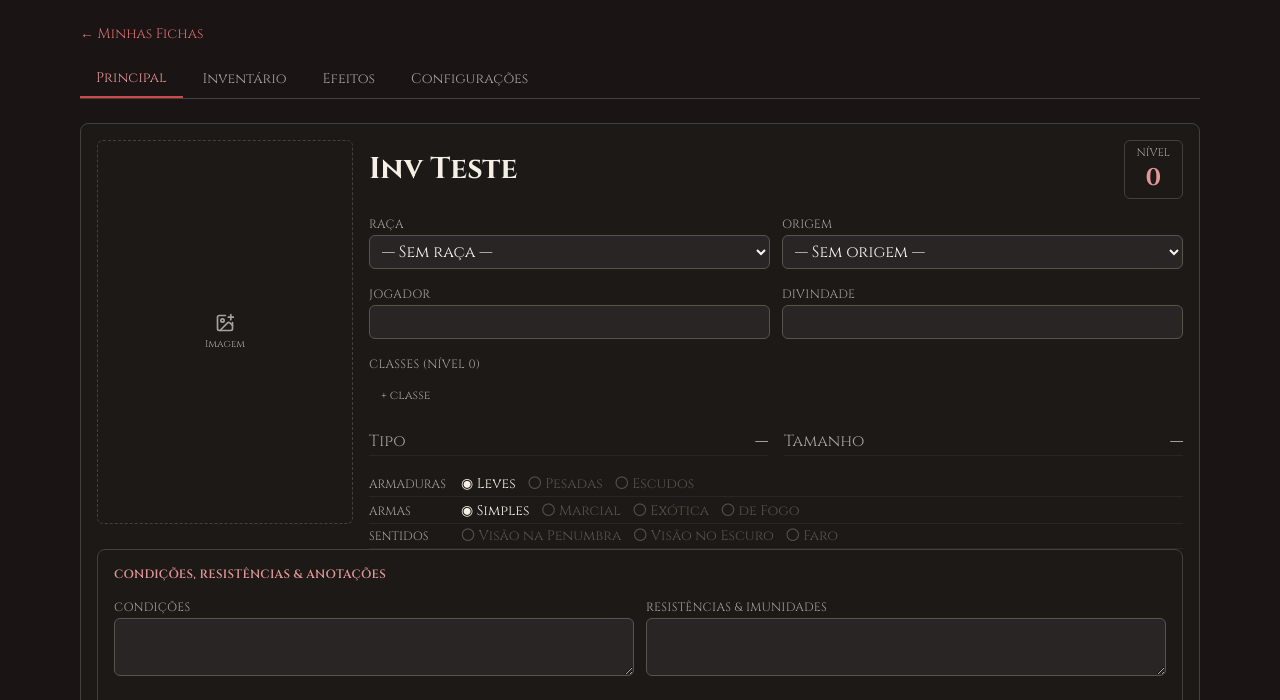
Test: SheetEditor (página única) › abre a aba Inventário e permite adicionar item
Click the tab "Inventário": (245, 79) [187,60,303,98]
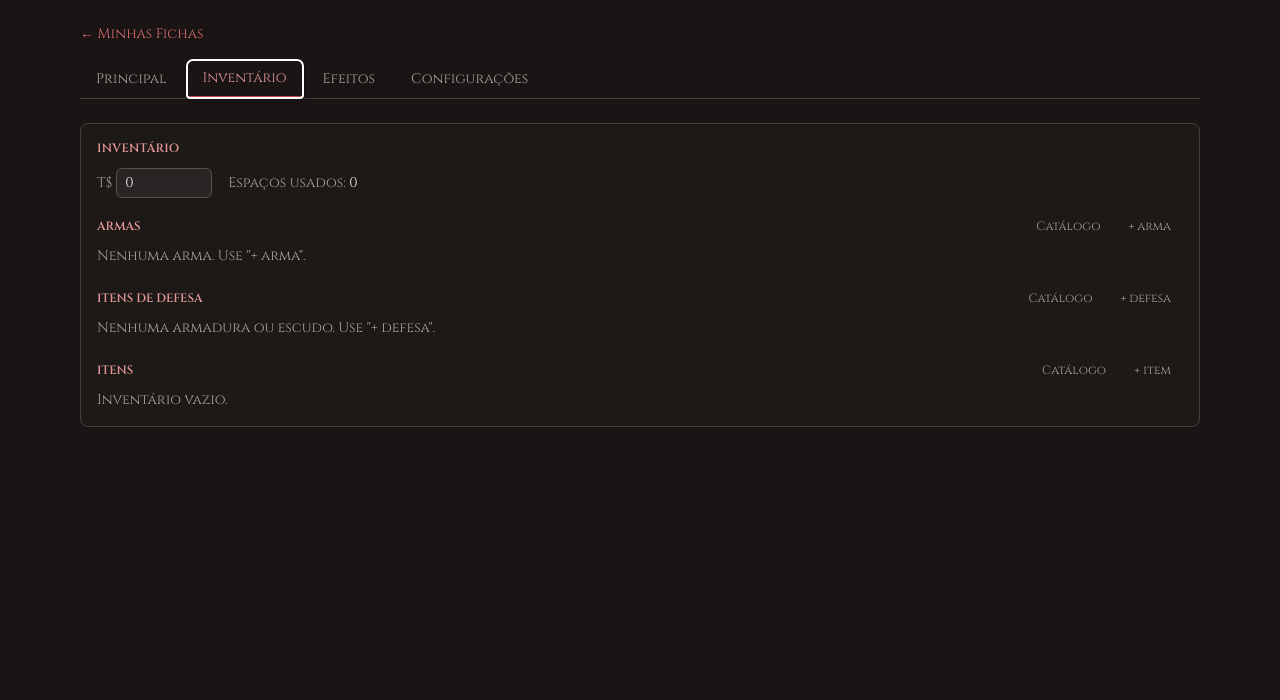
Click the button "+ item": (1153, 370) [1122,354,1183,386]
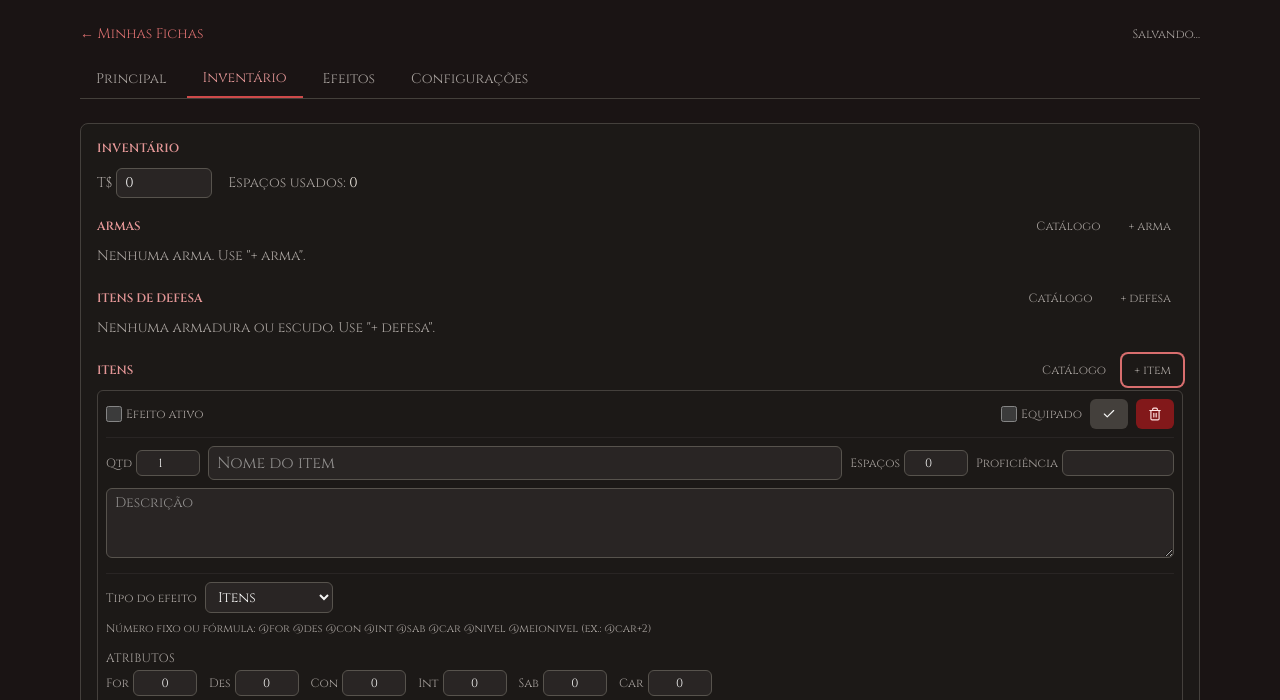
Expected: the field with placeholder "Nome do item" is shown, [208,446,842,480]
